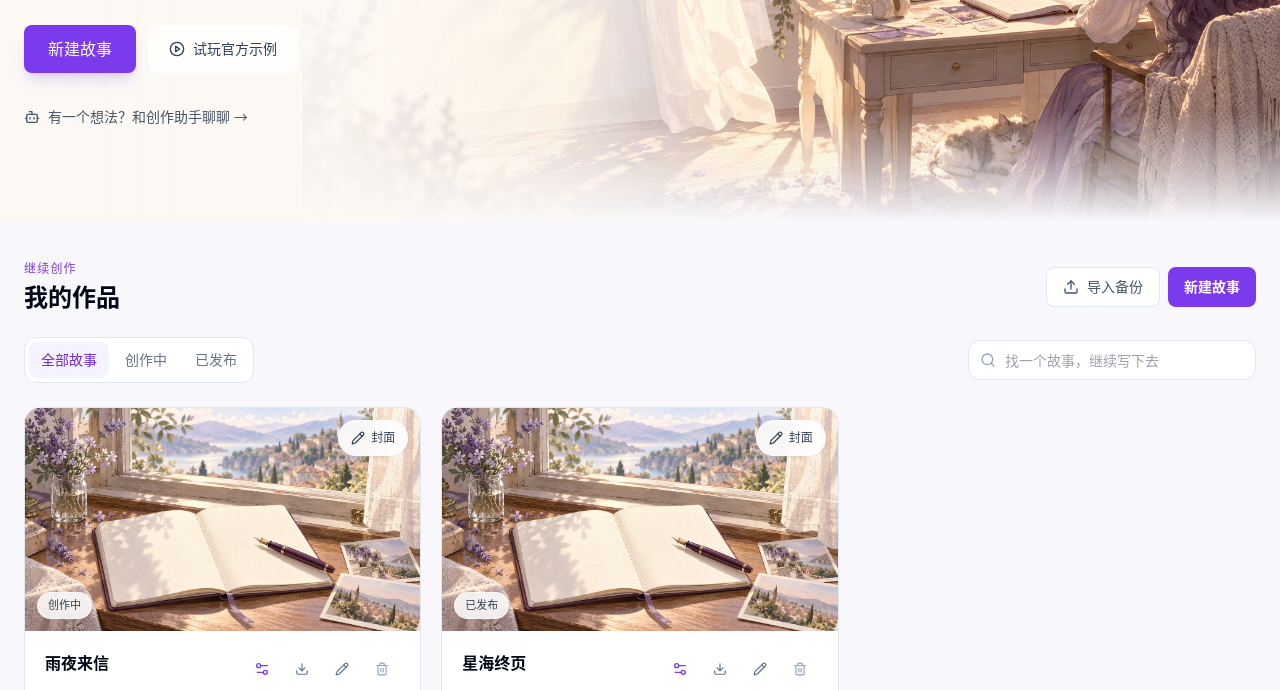
Test: HomePage navigation › finds projects by title and publication status and gives icon actions explicit names
This screenshot has width=1280, height=690.
(page scrolled)
Expected: the heading "雨夜来信" is shown, [45, 651, 109, 675]
Expected: the button named "重命名雨夜来信" is shown, [324, 651, 360, 687]
Click the button "已发布": coordinates (216, 360) [183, 342, 249, 378]
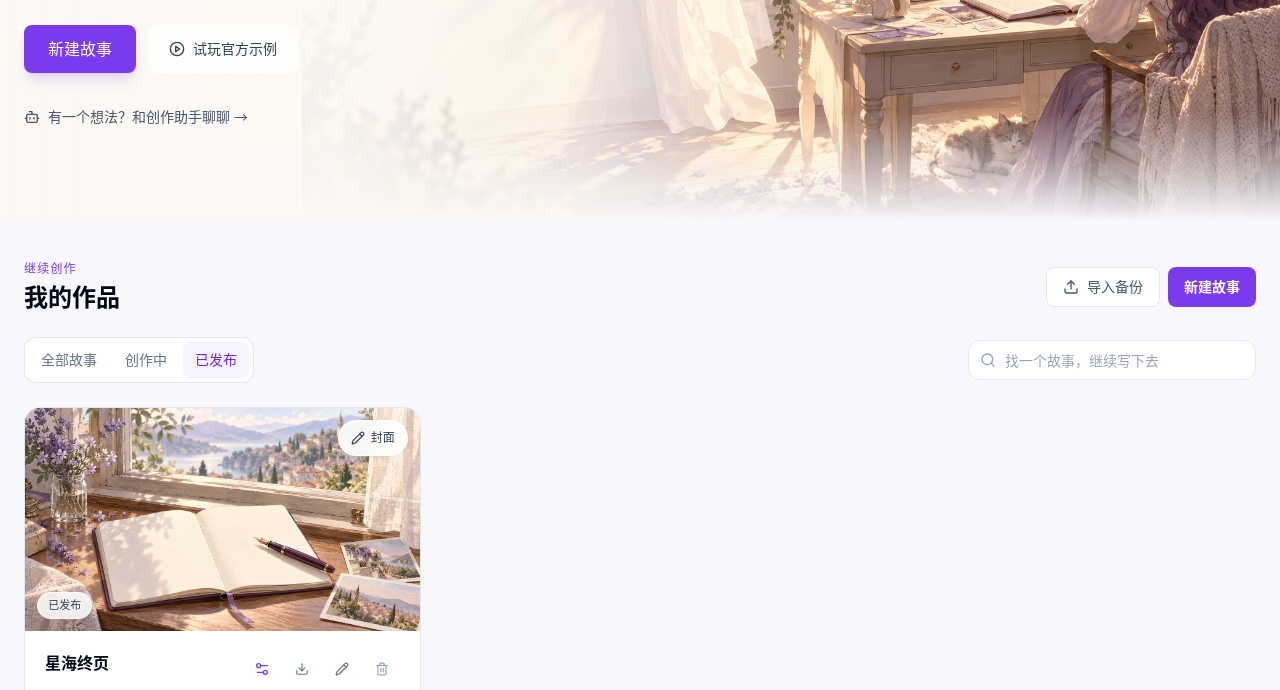
Expected: the heading "星海终页" is shown, [45, 651, 109, 675]
Expected: the heading "雨夜来信" is gone
In the field named "搜索我的故事": coordinates (1112, 360) [968, 340, 1256, 380], type "不存在的故事"
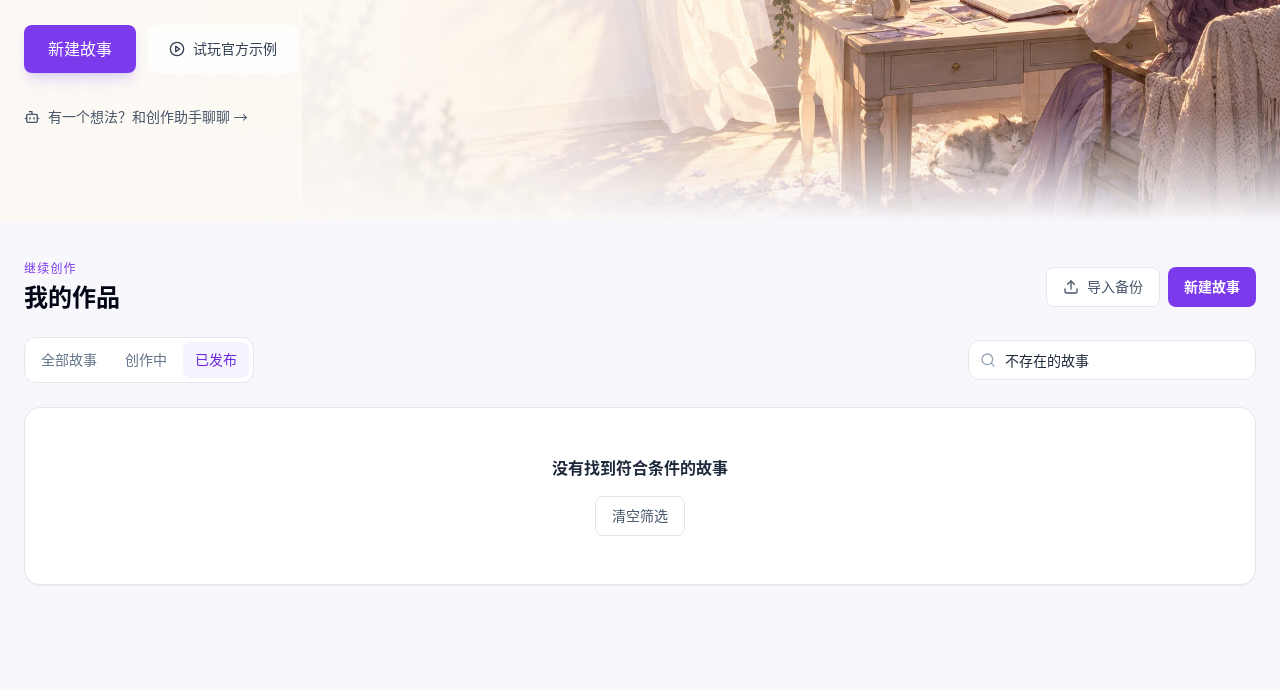
Expected: the heading "没有找到符合条件的故事" is shown, [552, 457, 728, 479]
Click the button "清空筛选": coordinates (640, 516) [595, 496, 685, 536]
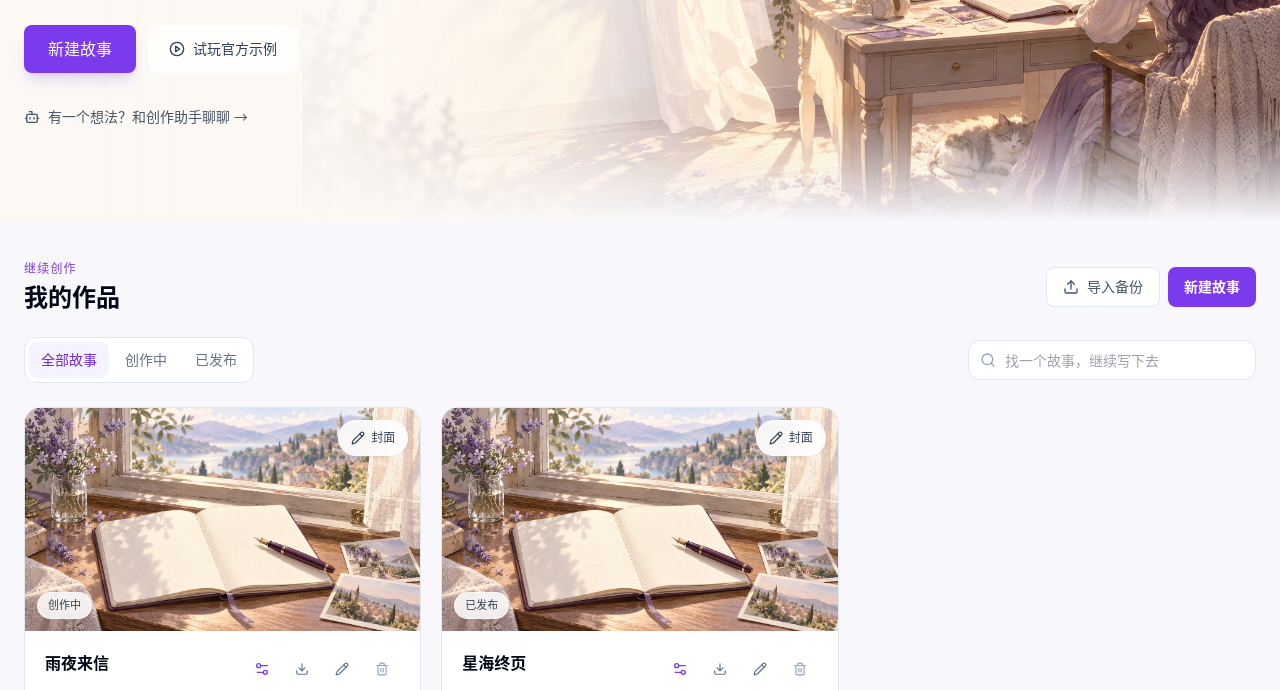
Expected: the heading "雨夜来信" is shown, [45, 651, 109, 675]
